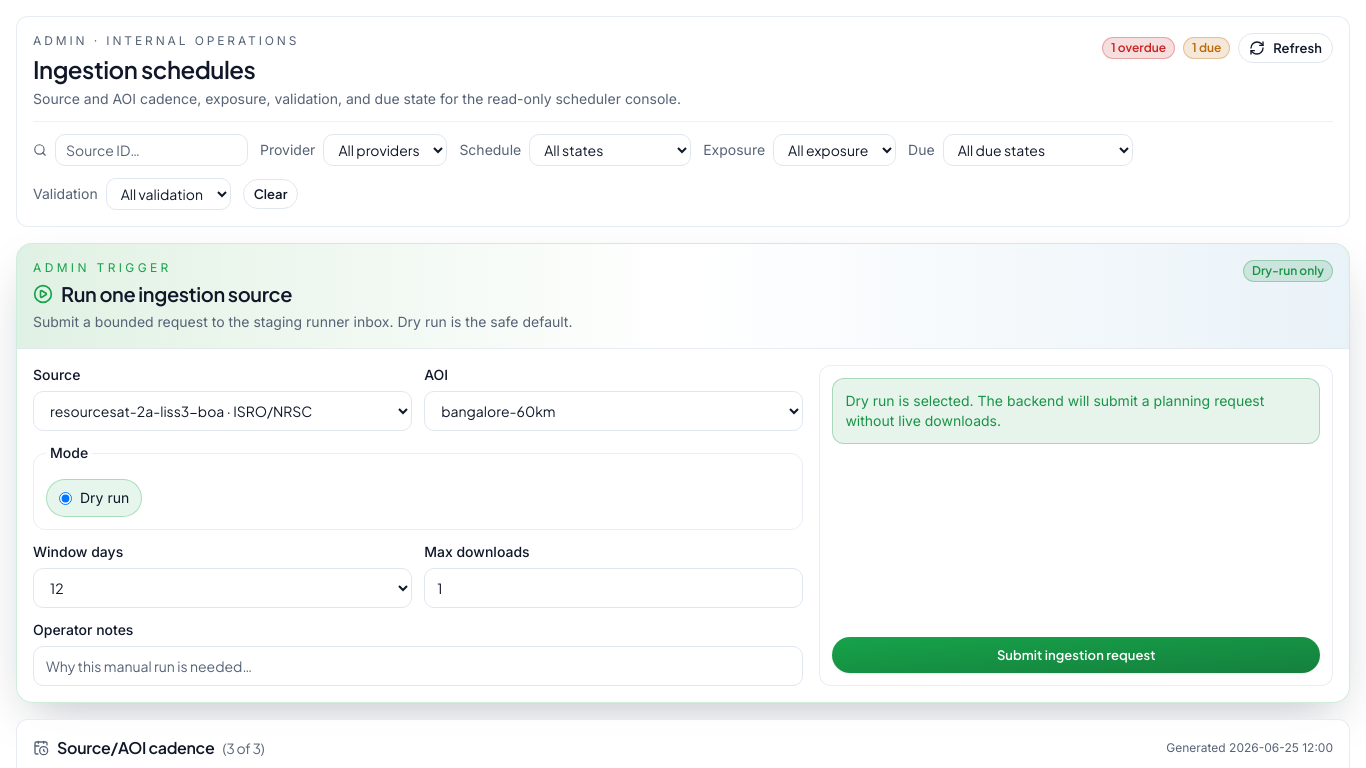
Test case: IngestionSchedules › renders trigger errors safely without backend details
This screenshot has width=1366, height=768.
Step 1. Click the button "Submit ingestion request" → (1076, 655), box 832,637 -> 1320,673
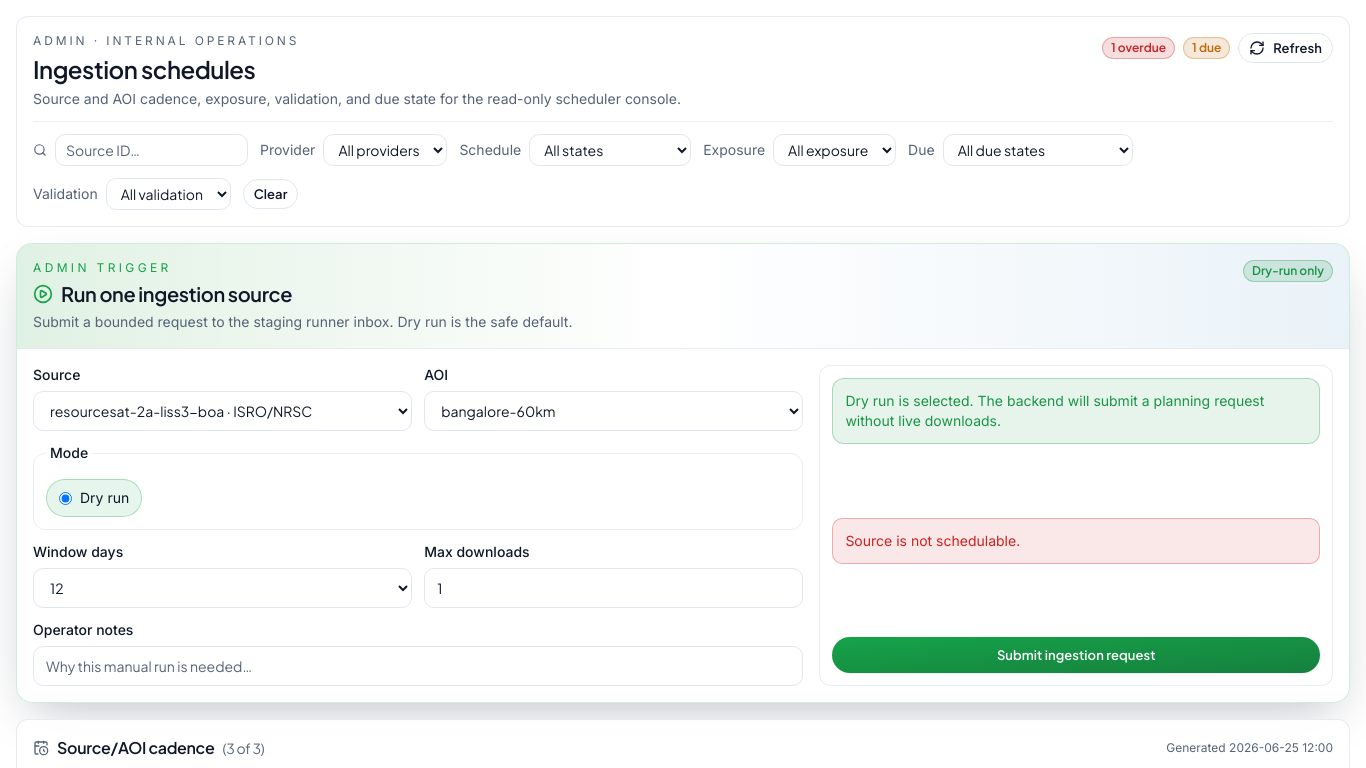
Check: the text "Source is not schedulable." is shown, box 832,518 -> 1320,564
